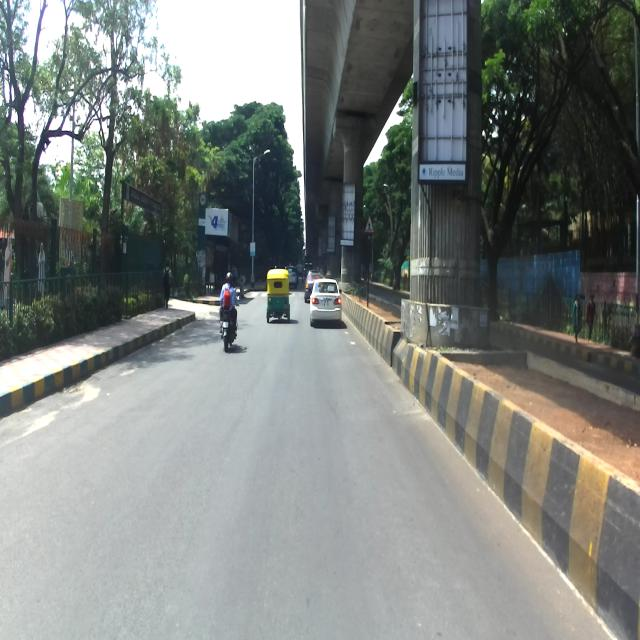auto ahead at: (263, 269, 291, 323)
car ahead at: (305, 279, 342, 330)
